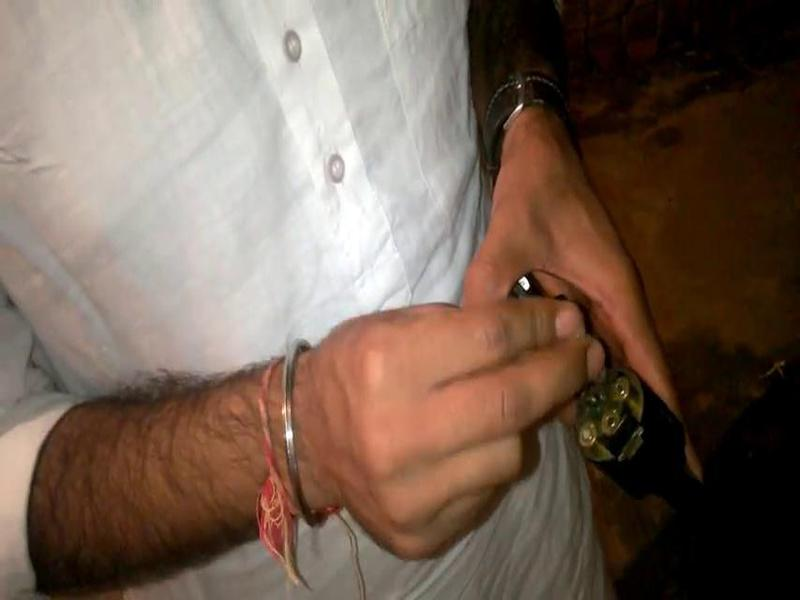Revolver: (477, 254, 765, 569)
